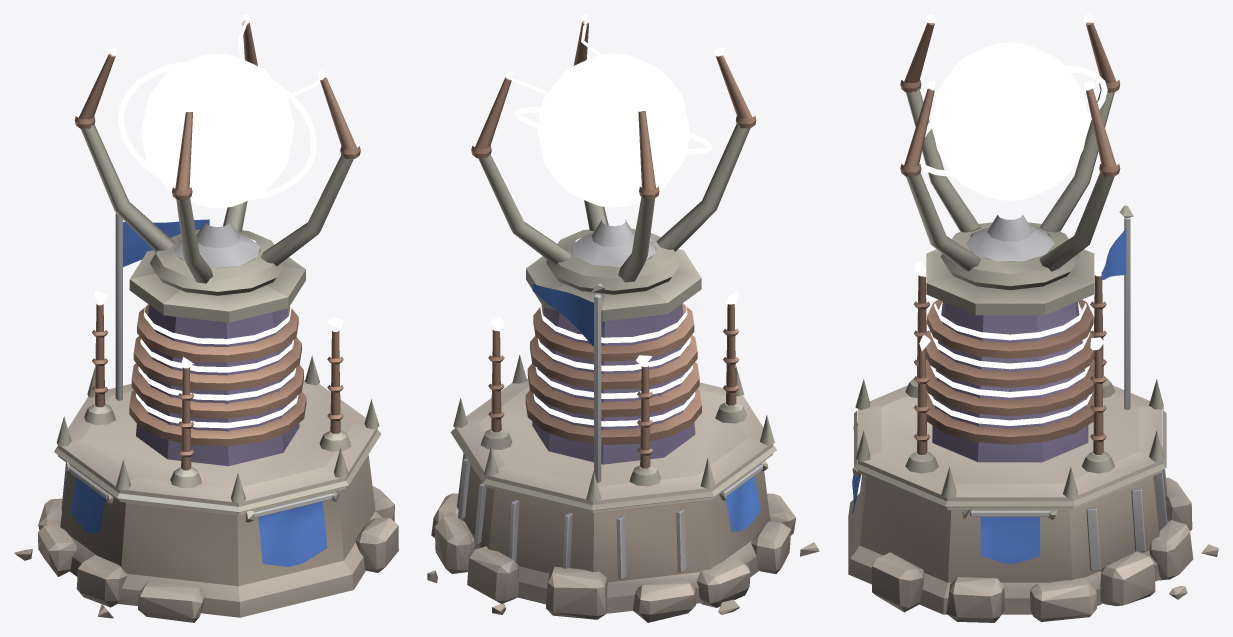
The model's file is spark_2_10.glb.
The picture shows the model from 3 angles, left to right: view 1: azimuth 30°, elevation 25°; view 2: azimuth 150°, elevation 25°; view 3: azimuth 270°, elevation 25°; orthographic projection. The views are drawn at different scales.
Parts seen in each view (by area): view 1: Tower, Turret; view 2: Tower, Turret; view 3: Tower, Turret.
Boxes of the visible parts, left/top/right/bottom form: Tower: left=14, top=213, right=398, bottom=622; Turret: left=74, top=14, right=360, bottom=295; Tower: left=427, top=242, right=819, bottom=622; Turret: left=471, top=14, right=756, bottom=294; Tower: left=848, top=205, right=1218, bottom=622; Turret: left=900, top=14, right=1120, bottom=290.
Bounding box in the file's own units: 3.56 × 5.27 × 3.51.
